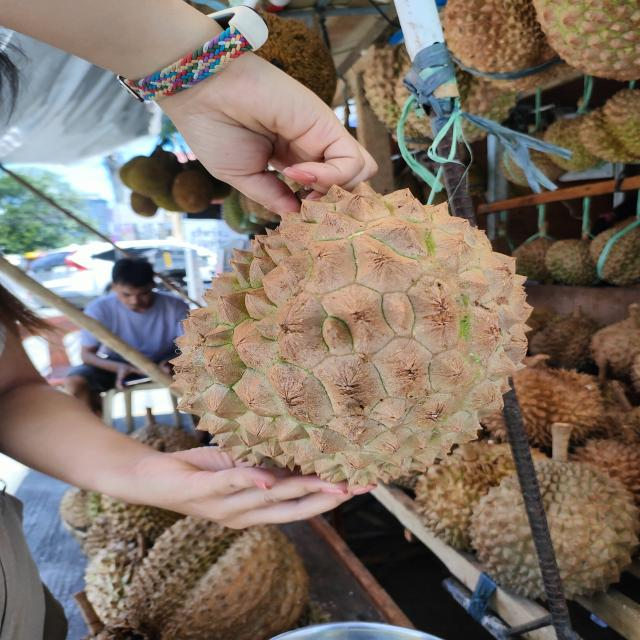mature: (159, 182, 532, 496)
